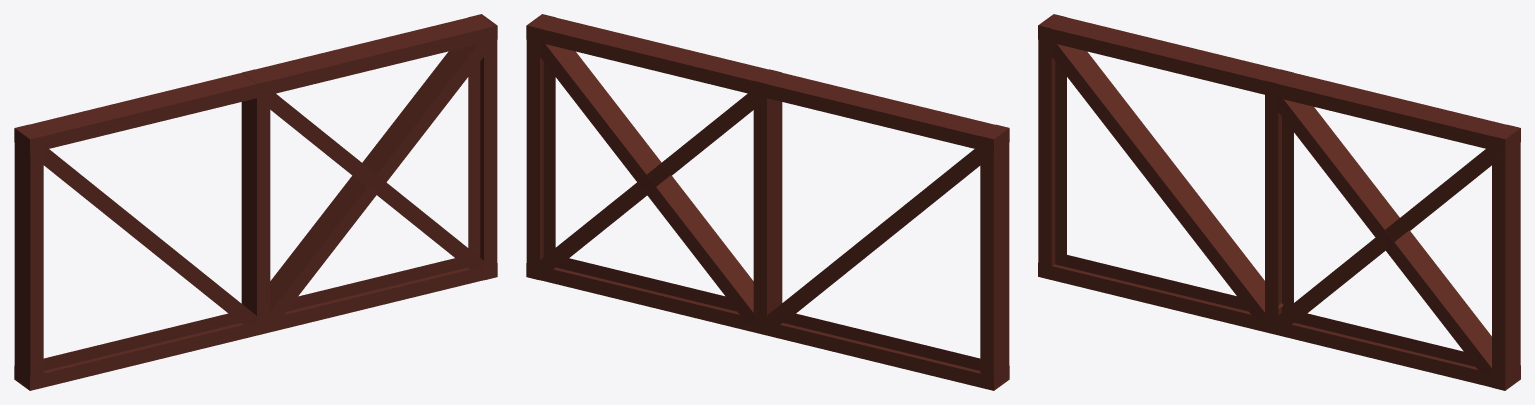
Rendered from fance.fbx.
3 views of the same model, side by side, from view 1: azimuth 30°, elevation 25°; view 2: azimuth 150°, elevation 25°; view 3: azimuth 330°, elevation 25° (orthographic).
Visible parts, largest first — view 1: Cube.006; view 2: Cube.006; view 3: Cube.006.
Boxes of the visible parts, x1,y1,x2,y2 form: Cube.006: (14,14,497,390); Cube.006: (526,14,1009,390); Cube.006: (1038,14,1520,390).
Size of the model in its own units: 95.1 by 48.96 by 5.53.
